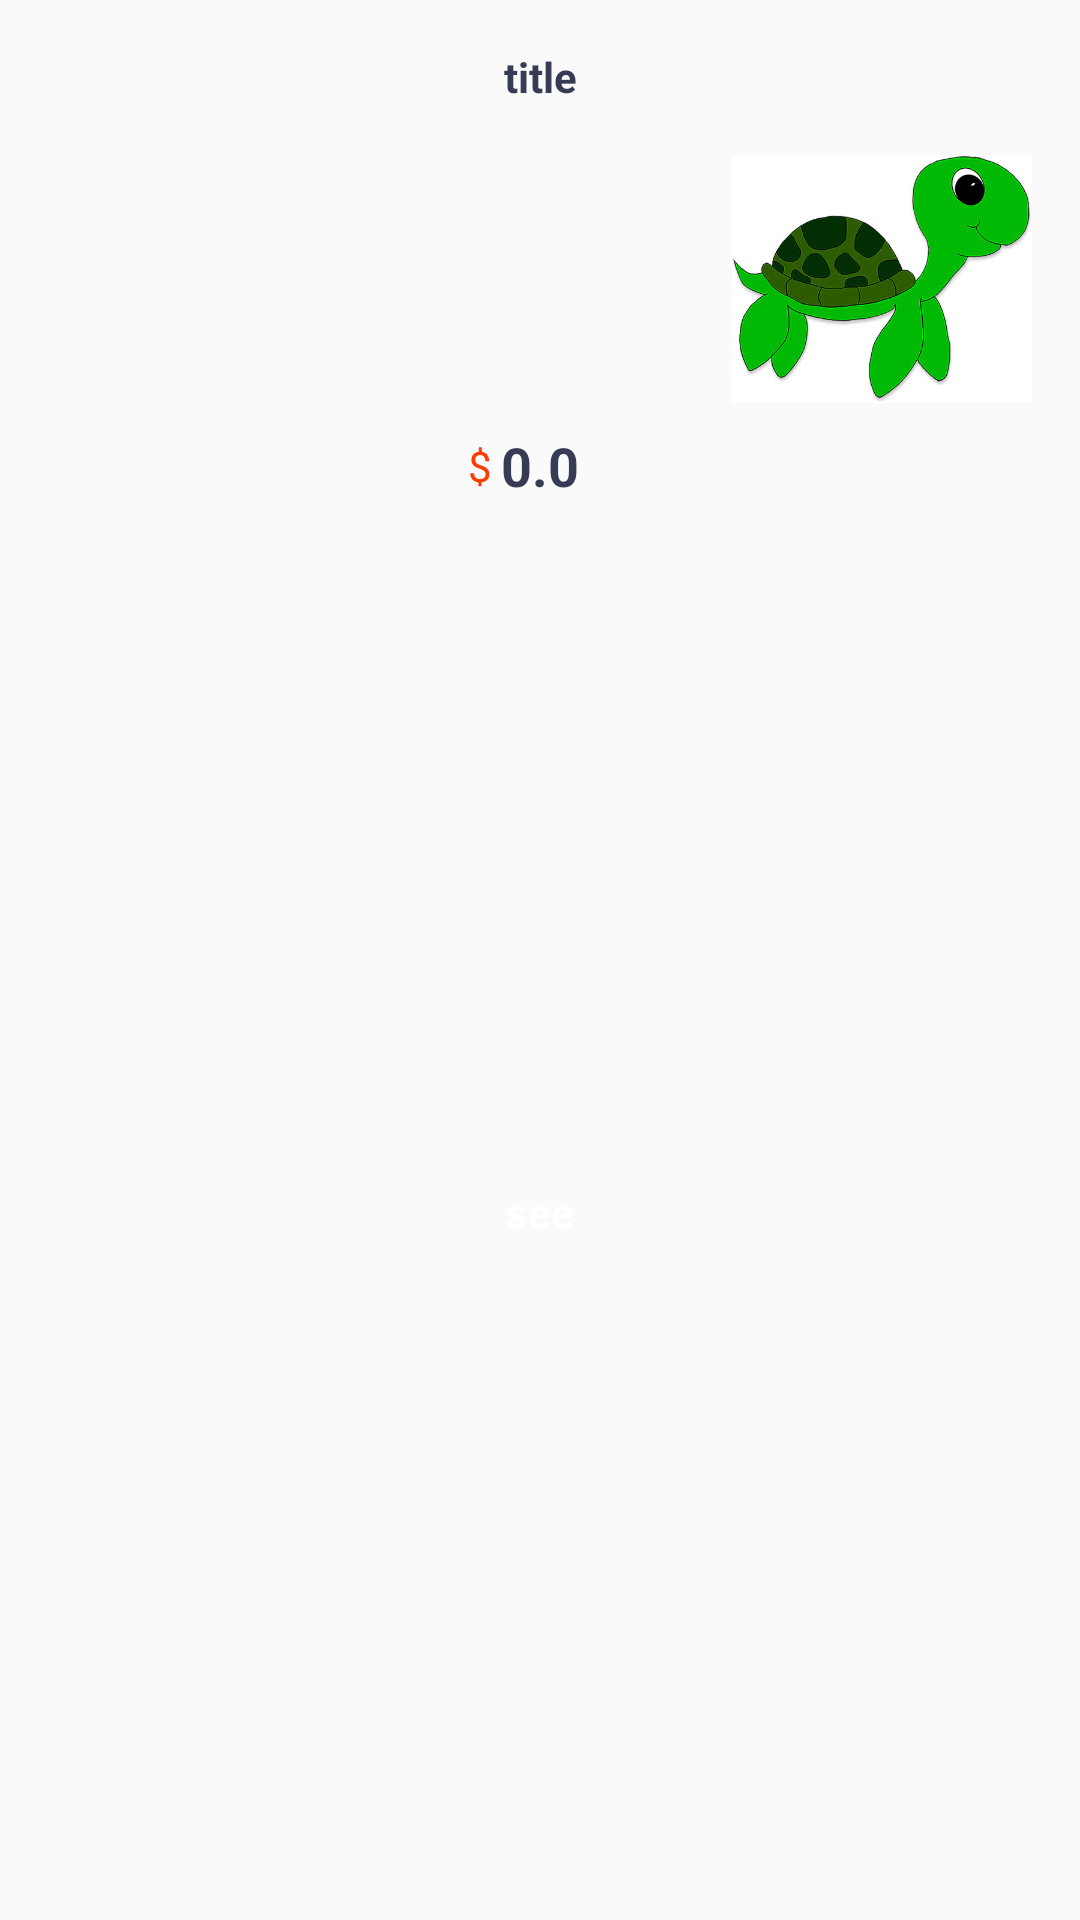

Screen size 1080px x 1920px. Icon name, then its box in pixels as Rect(x1, y1, x2, y2):
sea turtle clipart: Rect(733, 156, 1030, 400)
